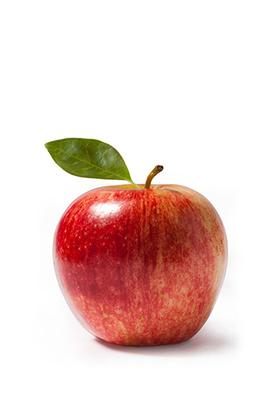apple: (0, 0, 280, 400)
